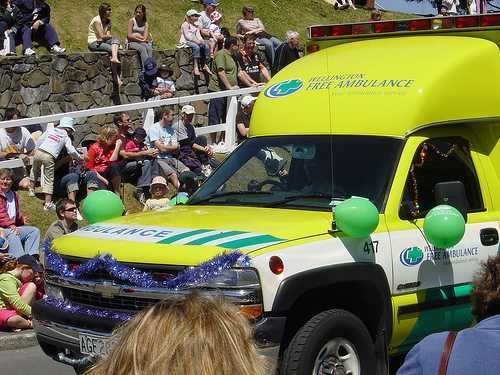Police Van: (61, 26, 500, 375)
